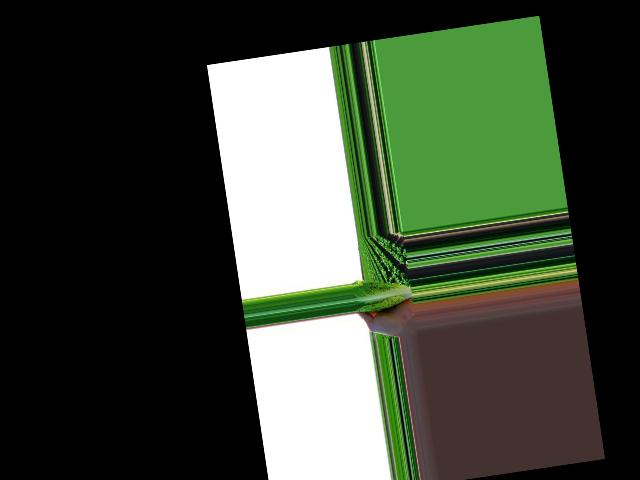lettuce: (353, 274, 414, 313)
